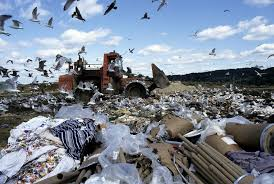garbage: (57, 99, 274, 183), (169, 88, 271, 184)
